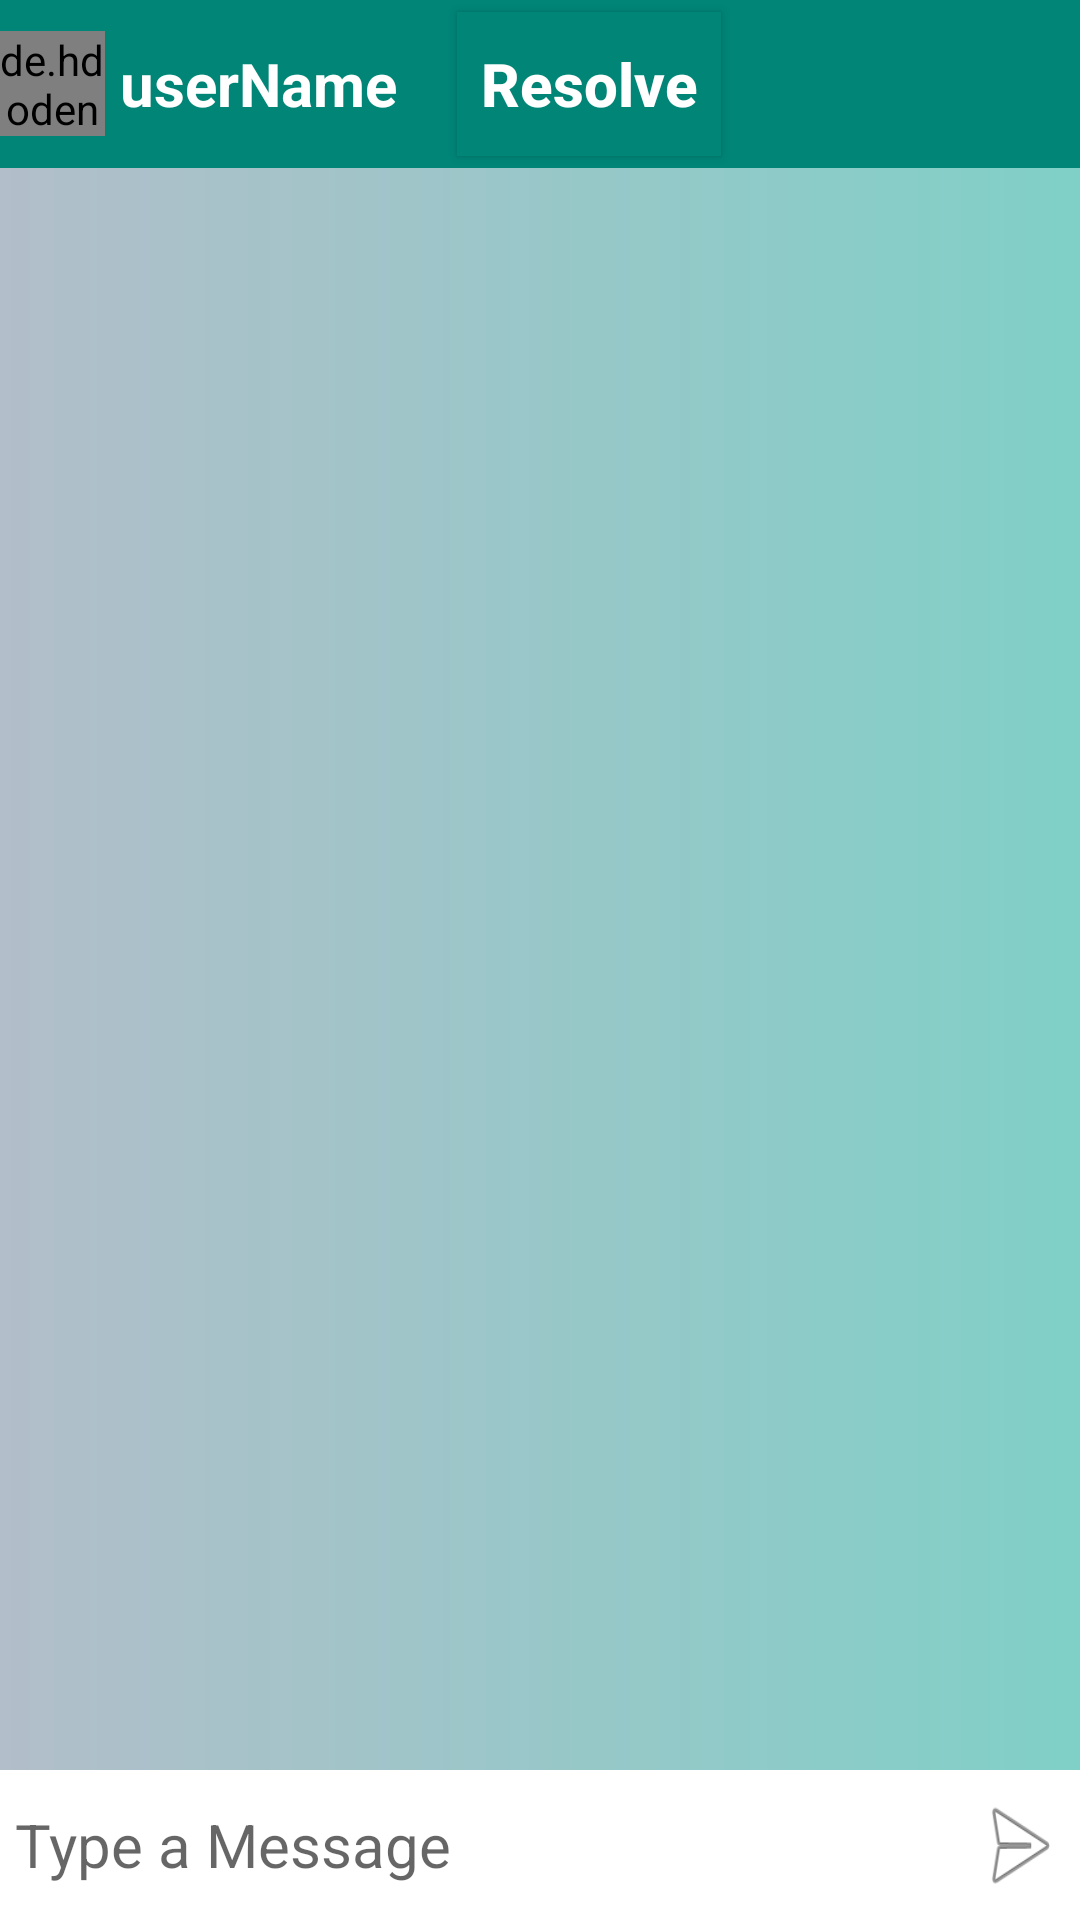

Screen size 1080*1920. Icon name, then its center in pixels as [x,y]:
send: [1021,1846]
